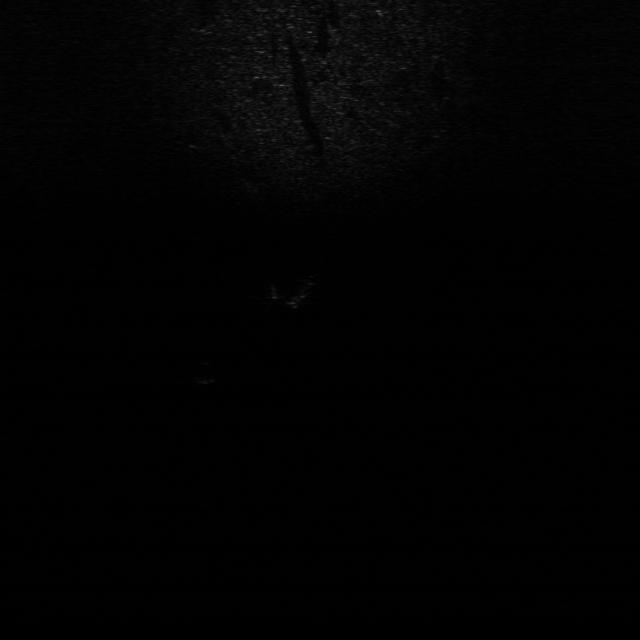ball: (192, 358, 222, 384)
human body: (268, 274, 317, 310)
